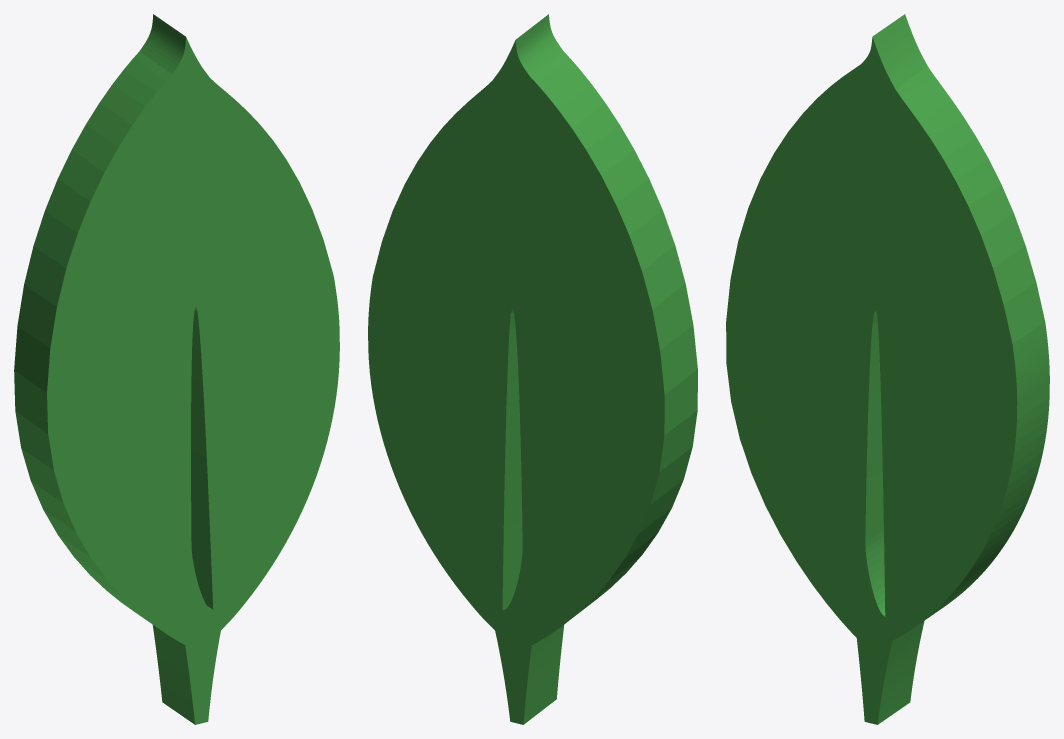
The model's file is Mongodb_model.glb.
3 renders of one model, left to right at view 1: azimuth 30°, elevation 25°; view 2: azimuth 150°, elevation 25°; view 3: azimuth 330°, elevation 25°, orthographic.
Visible parts, largest first — view 1: Curve; view 2: Curve; view 3: Curve.
Part boxes in pixels (left/top/right/bottom): Curve: left=14, top=14, right=339, bottom=724; Curve: left=368, top=14, right=697, bottom=724; Curve: left=726, top=14, right=1049, bottom=724.
Size of the model in its own units: 0.00304 by 0.00678 by 0.000743.
